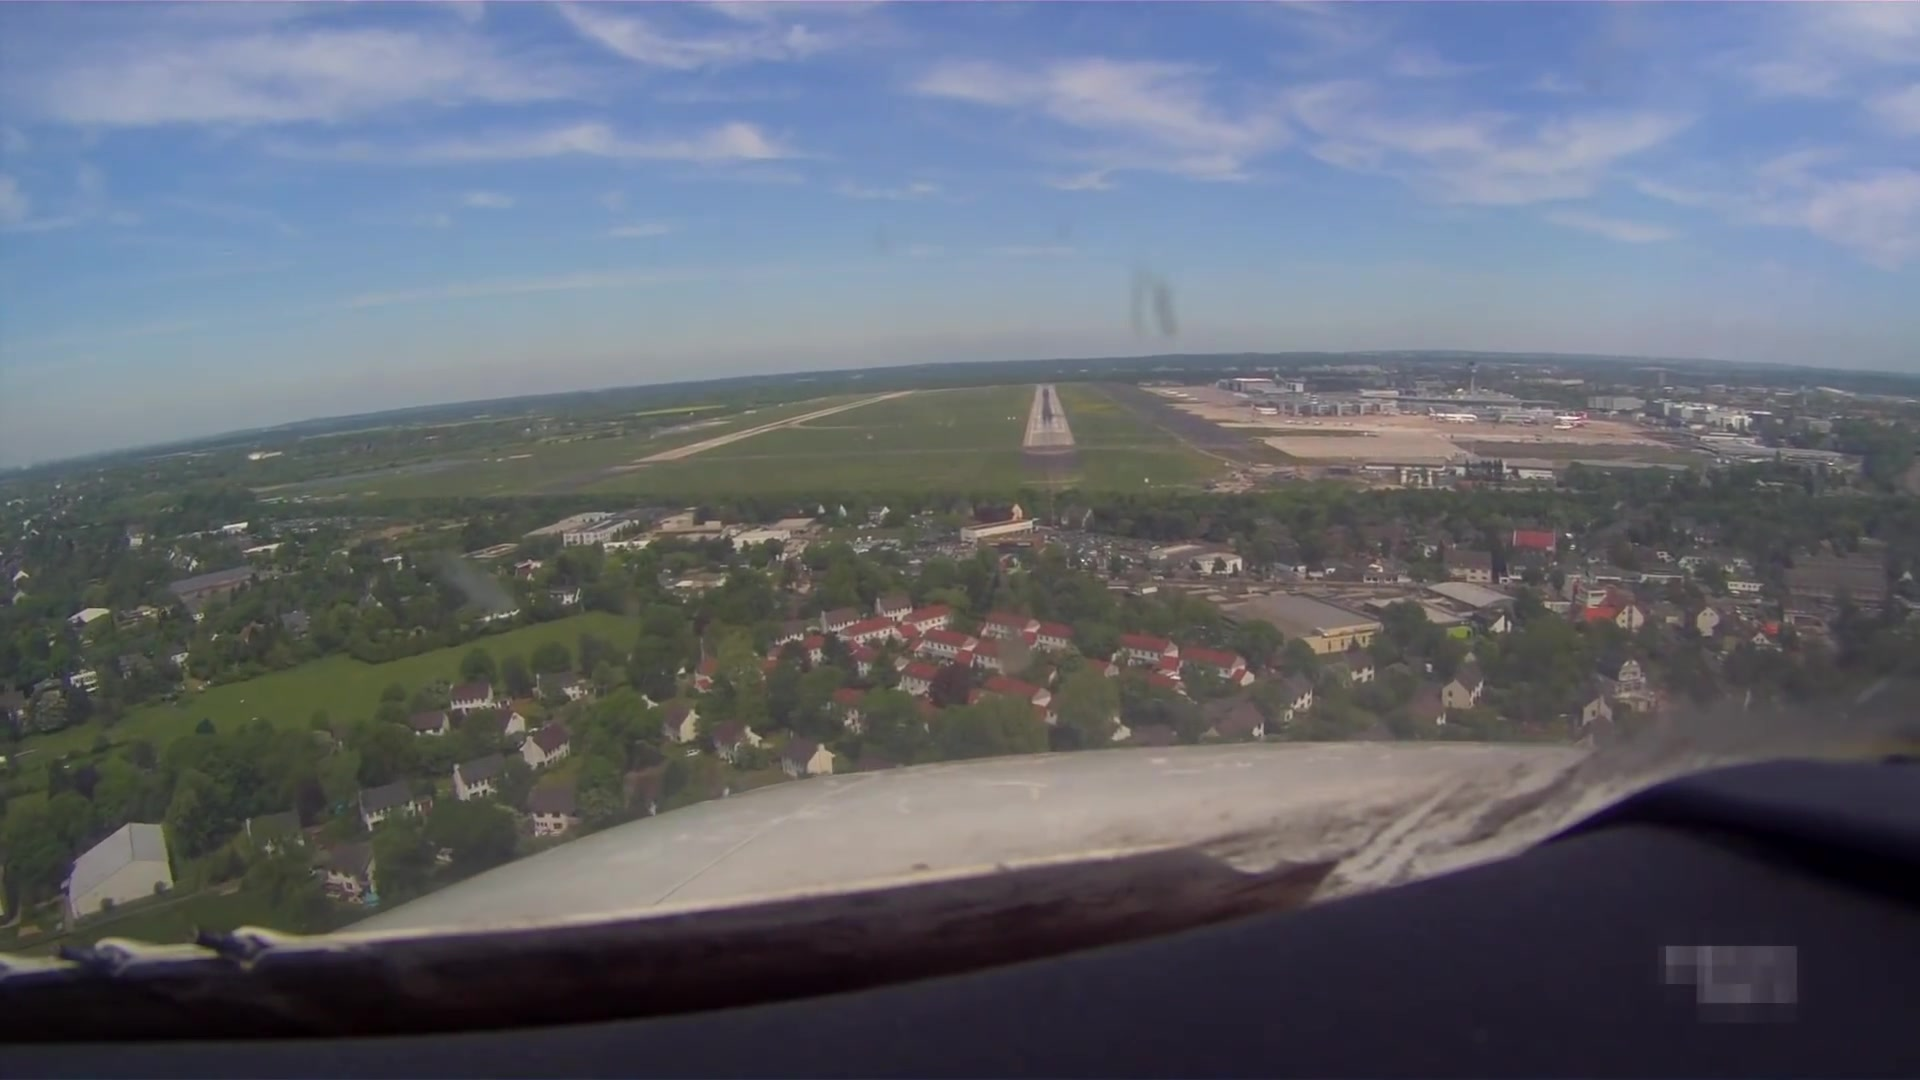runway: (1022, 384, 1075, 444)
